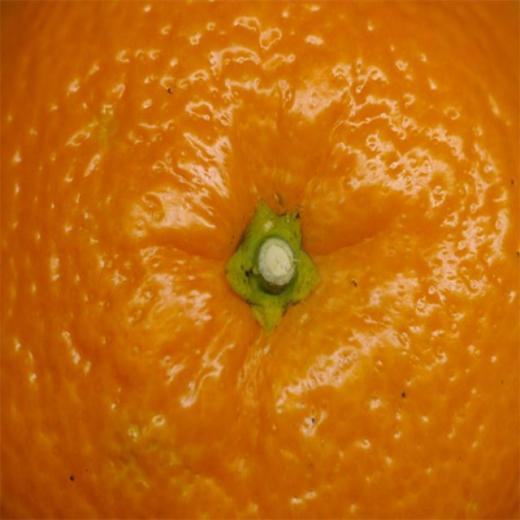Grape: (1, 1, 520, 488)
